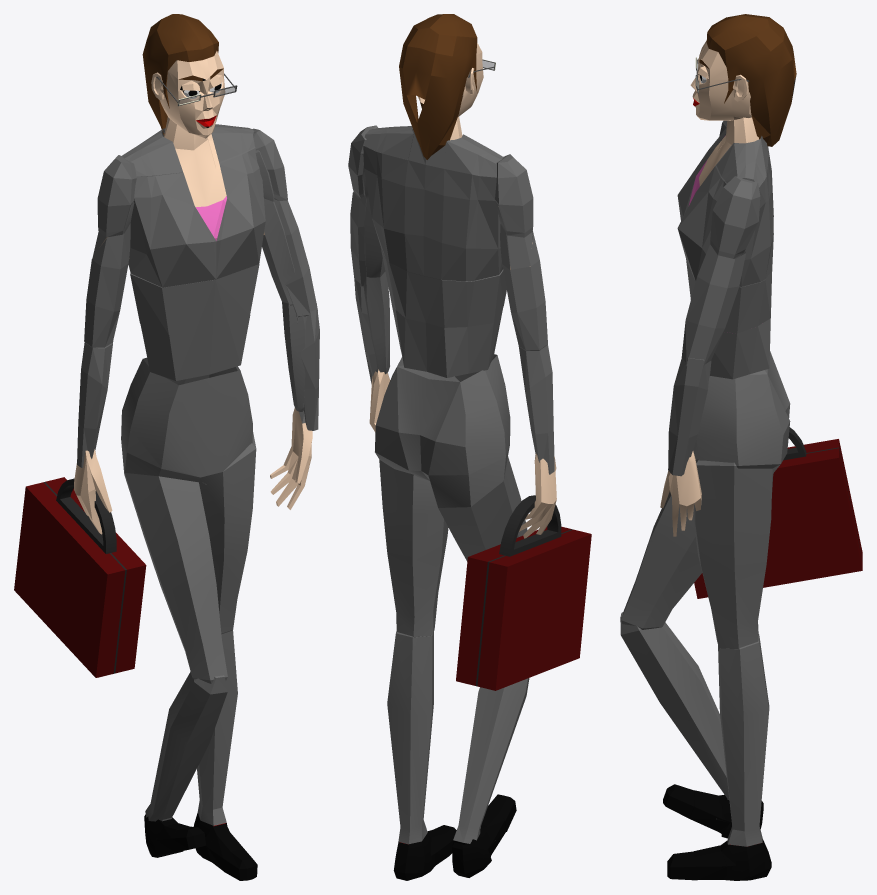
File: girl.fbx
3 renders of one model, left to right at view 1: azimuth 30°, elevation 25°; view 2: azimuth 150°, elevation 25°; view 3: azimuth 270°, elevation 25°, orthographic. The views are drawn at different scales.
Visible parts, largest first — view 1: Group1, Group2, Group3; view 2: Group1, Group2, Group3; view 3: Group1, Group2, Group3.
Boxes of the visible parts, x1,y1,x2,y2 form: Group1: [74, 14, 312, 880]; Group2: [77, 124, 319, 467]; Group3: [14, 477, 146, 677]; Group1: [359, 14, 556, 880]; Group2: [348, 125, 554, 474]; Group3: [456, 495, 591, 690]; Group1: [620, 14, 796, 880]; Group2: [668, 120, 773, 476]; Group3: [694, 427, 862, 598].
Bounding box in the file's own units: 15.46 × 56.97 × 14.77.
